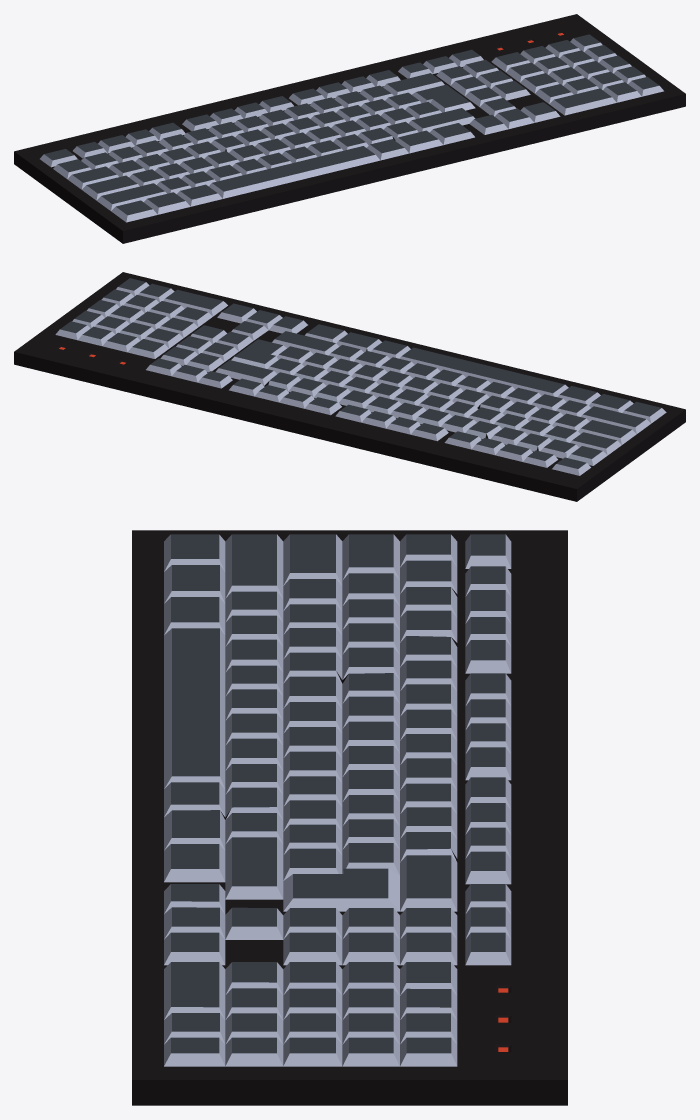
The model's file is Keyboard.fbx.
3 renders of one model, top to bottom at view 1: azimuth 30°, elevation 25°; view 2: azimuth 150°, elevation 25°; view 3: azimuth 270°, elevation 25°, orthographic. The views are drawn at different scales.
Visible parts, largest first — view 1: Cube; view 2: Cube; view 3: Cube.
Boxes of the visible parts, x1,y1,x2,y2 form: Cube: [14, 14, 685, 243]; Cube: [14, 272, 685, 501]; Cube: [132, 530, 567, 1105].
Size of the model in its own units: 46 by 1.4 by 15.43.
